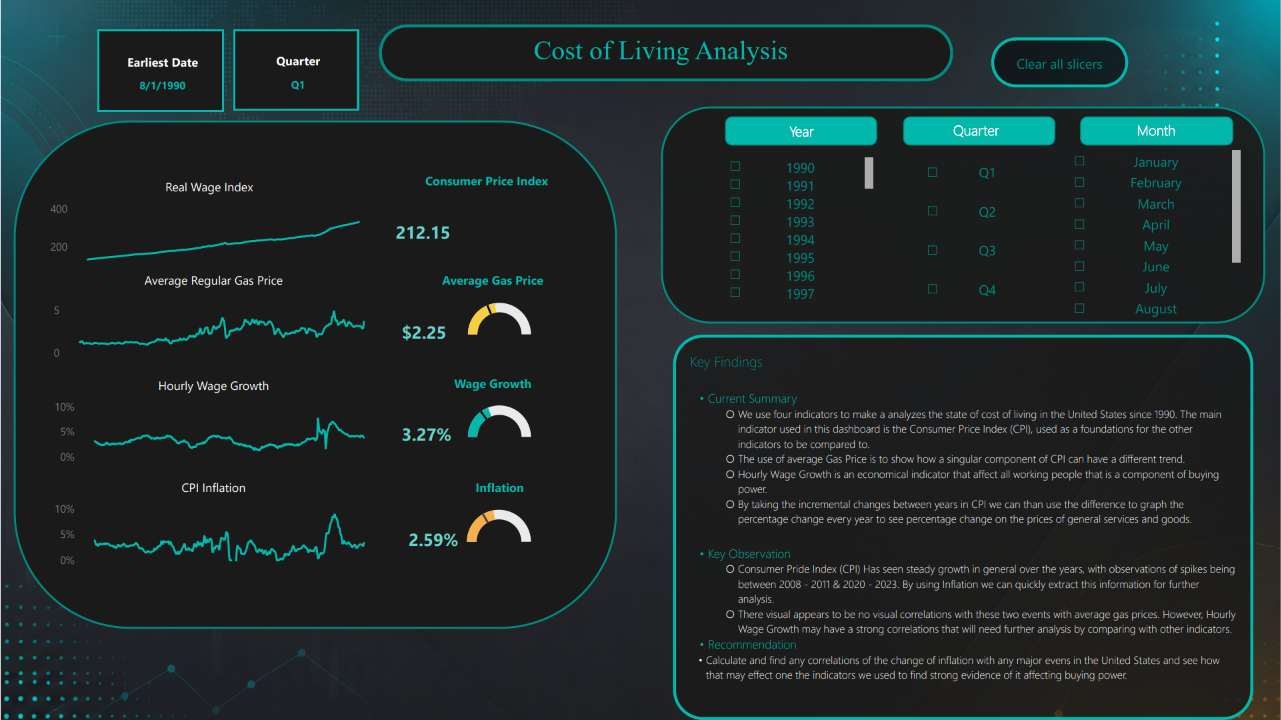

Layout of this report page (visuals, bound fields, positions):
{"tool":"powerbi","page":{"name":"Executive summary","canvas":[1280,720],"ordinal":0},"visuals":[{"type":"shape","box":[377.5,25.2,574.1,57],"z":0},{"type":"shape","box":[13.2,120.9,603.3,507.8],"z":1000},{"type":"lineChart","title":"Real Wage Index","fields":{"Category":["cost_of_living_monthly_analysis.date.Variation.Date Hierarchy.Year"],"Y":["Avg(cost_of_living_monthly_analysis.cpi)"]},"box":[43.9,178.8,329.4,93.6],"z":2000},{"type":"lineChart","title":"Average Regular Gas Price","fields":{"Category":["cost_of_living_monthly_analysis.date.Variation.Date Hierarchy.Quarter"],"Y":["Avg(cost_of_living_monthly_analysis.gas_price)"]},"box":[48.2,272.4,329.4,93.6],"z":3000},{"type":"lineChart","title":"Hourly Wage Growth","fields":{"Category":["cost_of_living_monthly_analysis.date.Variation.Date Hierarchy.Year"],"Y":["cost_of_living_monthly_analysis.Wage YoY %"]},"box":[48.2,376.7,329.4,93.6],"z":4000},{"type":"lineChart","title":"CPI Inflation","fields":{"Category":["cost_of_living_monthly_analysis.date.Variation.Date Hierarchy.Year"],"Y":["cost_of_living_monthly_analysis.CPI YoY %"]},"box":[48.2,479,329.4,93.6],"z":5000},{"type":"cardVisual","title":"Consumer Price Index","fields":{"Data":["Avg(cost_of_living_monthly_analysis.cpi)"]},"box":[377.7,172.5,215.9,93.6],"z":6000},{"type":"gauge","fields":{"MinValue":["Gauge_limits.IGM"],"MaxValue":["Gauge_limits.IGMX"],"Y":["cost_of_living_monthly_analysis.Latest CPI YoY %"],"TargetValue":["Gauge_limits.IGT"]},"box":[457.1,504.9,82.4,41.9],"z":7000},{"type":"cardVisual","title":"Average Gas Price","fields":{"Data":["Avg(cost_of_living_monthly_analysis.gas_price)"]},"box":[384,272.4,215.9,93.6],"z":8000},{"type":"gauge","fields":{"Y":["cost_of_living_monthly_analysis.Latest Gas Price"],"MinValue":["Gauge_limits.GM"],"TargetValue":["Gauge_limits.GT"],"MaxValue":["Gauge_limits.GMX"]},"box":[462,297.3,72.6,43.9],"z":9000},{"type":"gauge","fields":{"MaxValue":["Gauge_limits.IMx"],"TargetValue":["Gauge_limits.IT"],"MinValue":["Gauge_limits.IMin"],"Y":["cost_of_living_monthly_analysis.Latest Wage YoY %"]},"box":[462,391.8,73.1,59.5],"z":10000},{"type":"textbox","box":[492.2,30.7,335.8,63.8],"z":11000},{"type":"cardVisual","title":"Inflation","fields":{"Data":["cost_of_living_monthly_analysis.CPI YoY %"]},"box":[390.8,479,215.9,93.6],"z":12000},{"type":"cardVisual","title":"Wage Growth ","fields":{"Data":["cost_of_living_monthly_analysis.Wage YoY %"]},"box":[384,374.7,215.9,93.6],"z":13000},{"type":"shape","box":[660.3,106.7,603.3,216.9],"z":14000},{"type":"listSlicer","fields":{"Values":["Calendar.Year"]},"box":[724.1,152.5,152.5,159.4],"z":16000},{"type":"listSlicer","fields":{"Values":["Calendar.Quarter"]},"box":[921.2,147.7,119.9,169.1],"z":17000},{"type":"listSlicer","fields":{"Values":["Calendar.Month"]},"box":[1068.2,146.2,175.4,177.4],"z":18000},{"type":"actionButton","box":[989.7,38,136.9,49.7],"z":19000},{"type":"textbox","box":[671.5,335.5,580.6,384.2],"z":20000},{"type":"shape","box":[723.7,117,152.5,29.2],"z":21000},{"type":"shape","box":[901.5,117,152.5,29.2],"z":22000},{"type":"shape","box":[1079.4,117,152.5,29.2],"z":23000},{"type":"textbox","box":[776.3,117,48.2,29.7],"z":24000},{"type":"textbox","box":[908.8,116.5,132.1,29.7],"z":25000},{"type":"textbox","box":[1114.5,116.5,81.9,29.7],"z":26000},{"type":"cardVisual","fields":{"Data":["Min(Calendar.Date)"]},"box":[91.6,25.3,136,91.6],"z":27000},{"type":"cardVisual","fields":{"Data":["Min(Calendar.Quarter)"]},"box":[227.6,25.3,135,91.1],"z":28000}]}

Visuals, with their boxes in screenshot pixels (x1, y1, x2, y2), scaled from the page's 1280x720 canvas onto the 1281x720 screenshot:
shape: <region>378, 25, 952, 82</region>
shape: <region>13, 121, 617, 629</region>
"Real Wage Index" lineChart: <region>44, 179, 374, 272</region>
"Average Regular Gas Price" lineChart: <region>48, 272, 378, 366</region>
"Hourly Wage Growth" lineChart: <region>48, 377, 378, 470</region>
"CPI Inflation" lineChart: <region>48, 479, 378, 573</region>
"Consumer Price Index" cardVisual: <region>378, 172, 594, 266</region>
gauge - Gauge_limits.IGM x Gauge_limits.IGMX: <region>457, 505, 540, 547</region>
"Average Gas Price" cardVisual: <region>384, 272, 600, 366</region>
gauge - cost_of_living_monthly_analysis.Latest Gas Price x Gauge_limits.GM: <region>462, 297, 535, 341</region>
gauge - Gauge_limits.IMx x Gauge_limits.IT: <region>462, 392, 536, 451</region>
textbox: <region>493, 31, 829, 94</region>
"Inflation" cardVisual: <region>391, 479, 607, 573</region>
"Wage Growth " cardVisual: <region>384, 375, 600, 468</region>
shape: <region>661, 107, 1265, 324</region>
listSlicer - Calendar.Year: <region>725, 152, 877, 312</region>
listSlicer - Calendar.Quarter: <region>922, 148, 1042, 317</region>
listSlicer - Calendar.Month: <region>1069, 146, 1245, 324</region>
actionButton: <region>990, 38, 1127, 88</region>
textbox: <region>672, 336, 1253, 719</region>
shape: <region>724, 117, 877, 146</region>
shape: <region>902, 117, 1055, 146</region>
shape: <region>1080, 117, 1233, 146</region>
textbox: <region>777, 117, 825, 147</region>
textbox: <region>910, 116, 1042, 146</region>
textbox: <region>1115, 116, 1197, 146</region>
cardVisual - Min(Calendar.Date): <region>92, 25, 228, 117</region>
cardVisual - Min(Calendar.Quarter): <region>228, 25, 363, 116</region>
